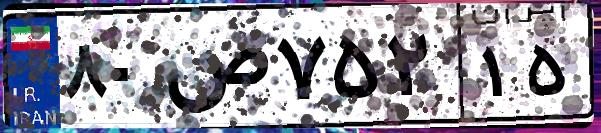0: (110, 28, 158, 98)
1: (475, 38, 525, 113)
2: (385, 28, 445, 110)
5: (330, 28, 385, 110), (525, 38, 570, 115)
7: (270, 28, 330, 110)
8: (57, 26, 110, 100)
ص: (158, 20, 270, 120)
